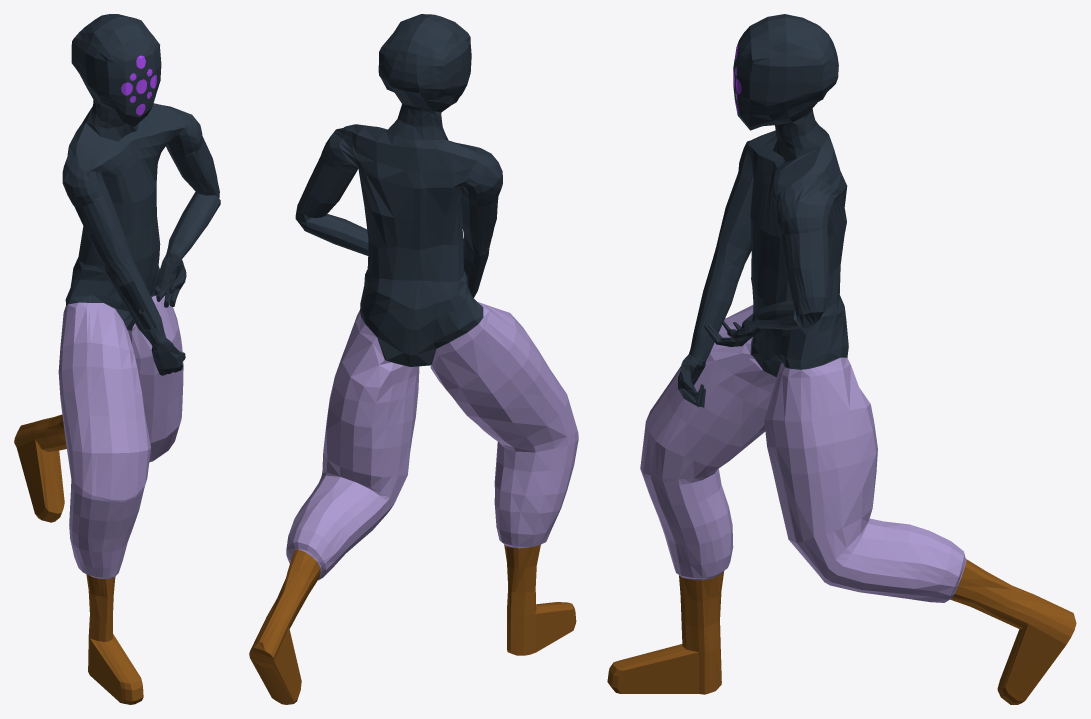
Rendered from Oracle_Run_000013.obj.
3 renders of one model, left to right at view 1: azimuth 30°, elevation 25°; view 2: azimuth 150°, elevation 25°; view 3: azimuth 270°, elevation 25°, orthographic. The views are drawn at different scales.
Parts seen in each view (by area): view 1: Cube; view 2: Cube; view 3: Cube.
Boxes of the visible parts, x1,y1,x2,y2 form: Cube: (14, 14, 220, 704); Cube: (249, 14, 578, 704); Cube: (607, 14, 1076, 704).
Size of the model in its own units: 1.29 by 3.74 by 2.26.
